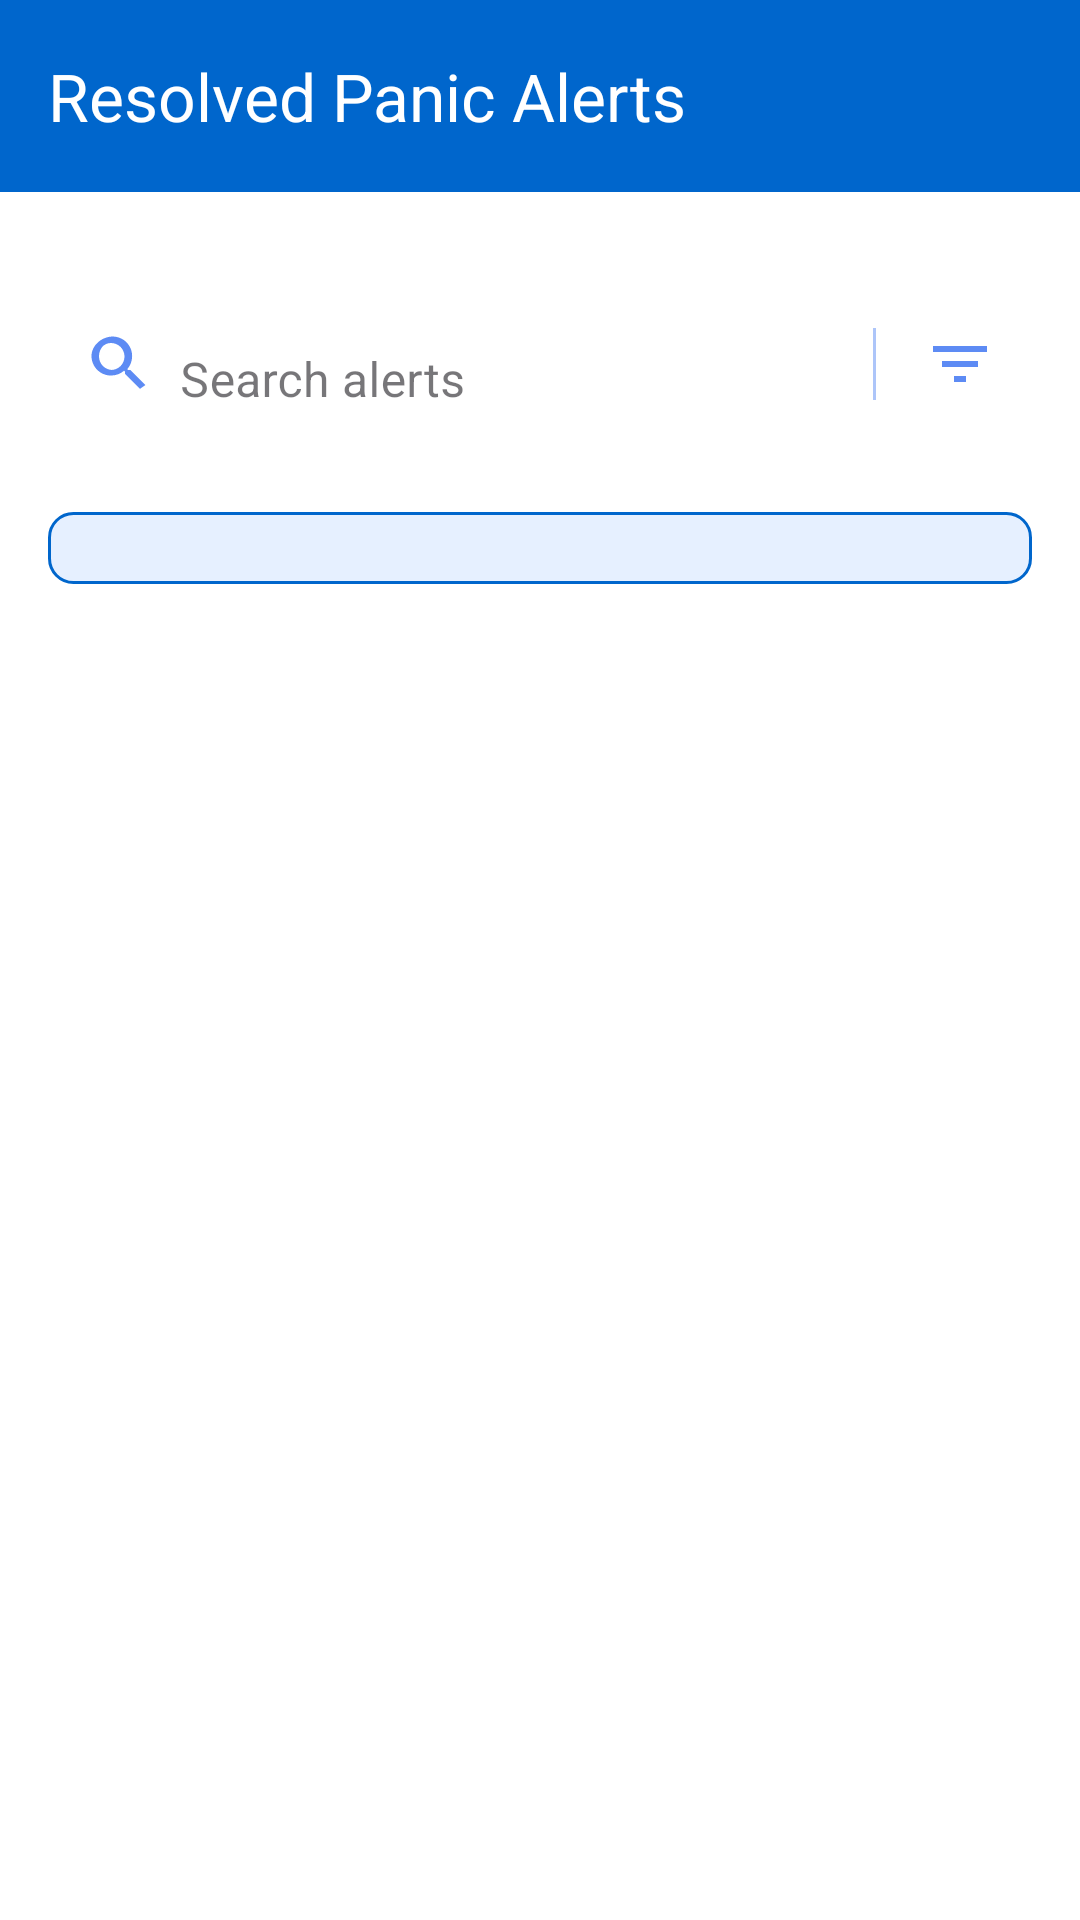

Icon click points for this 1080w x 1920h phone screenshot, format point (x, y):
Filter: point (960, 364)
